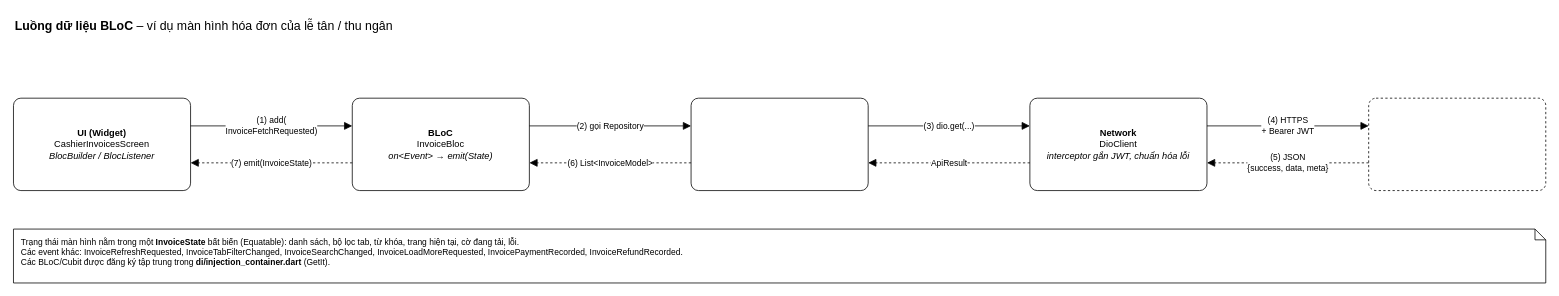
The diagram is 1559 pixels wide and 296 high, and some of its shapes have lost their labels. The shapes that lost their labels are listed below. From the top down, each one's box as (x1, y1, x2, y2) in pixels, then its label:
(690, 97, 868, 191): Repository InvoiceRepository fetchInvoicesPage()
(1368, 97, 1546, 191): NestJS API GET /api/v1/invoices ?page=&limit=&status=
